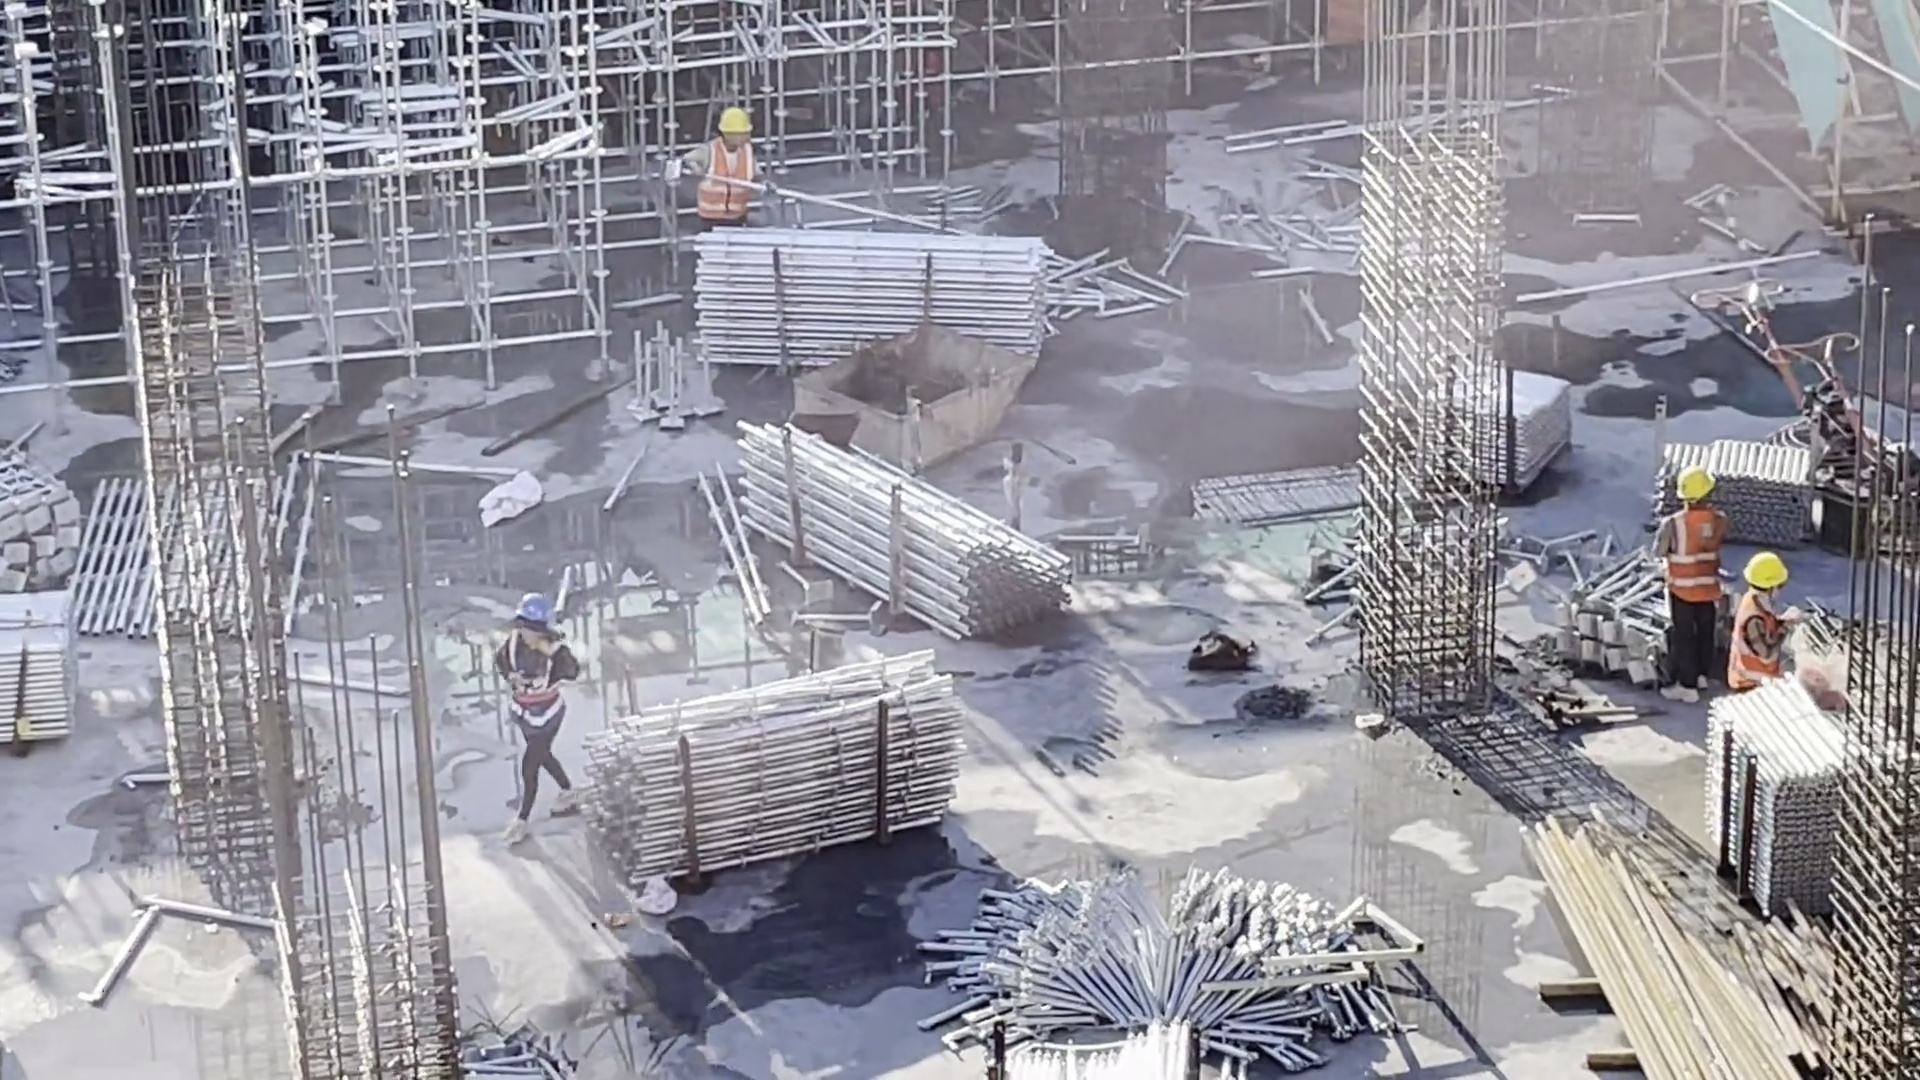helmet: (1747, 545, 1788, 600), (510, 586, 554, 635), (712, 106, 764, 143), (1675, 465, 1719, 504)
hopper: (804, 317, 1034, 474)
person: (493, 586, 589, 846), (1651, 465, 1730, 687), (677, 108, 789, 242), (1722, 546, 1800, 698)
scaffold: (918, 860, 1404, 1042), (725, 417, 1071, 638), (601, 672, 971, 880), (685, 218, 1072, 381), (1701, 679, 1848, 890), (1653, 433, 1824, 560), (973, 1005, 1206, 1080), (1437, 366, 1575, 490), (1562, 550, 1687, 678), (1, 591, 90, 756), (1, 444, 92, 589)
vest: (504, 638, 584, 716), (1671, 512, 1726, 605), (701, 138, 762, 223), (1734, 595, 1784, 683)
